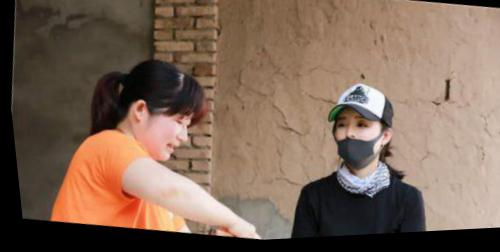NONE: (136, 107, 199, 166)
WRONG: (324, 109, 388, 172)
